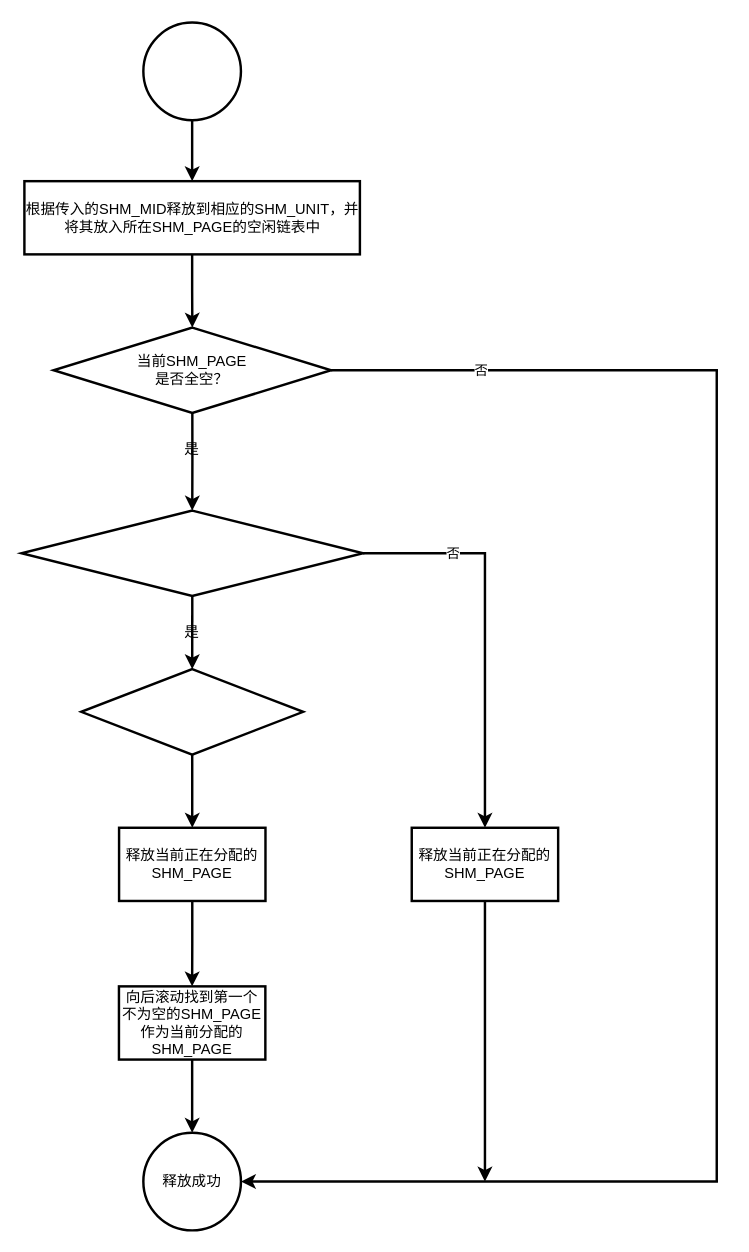
Some shapes in this 749 by 1252 pixel diagram are drawn without their labels. The shapes that lost their labels are listed below. From the top down, each one's centre as x and y in pixels, then its label:
At (x=192, y=71): "释放开始".
At (x=192, y=553): "当前SHM_PAGE是否为当 前正在分配的SHM_PAGE？".
At (x=191, y=711): "如果当前的正在分配的SHM_PAGE的使用率小于一半".
